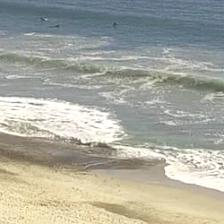surfer: (51, 24, 60, 28), (112, 22, 118, 26), (40, 17, 46, 21)
